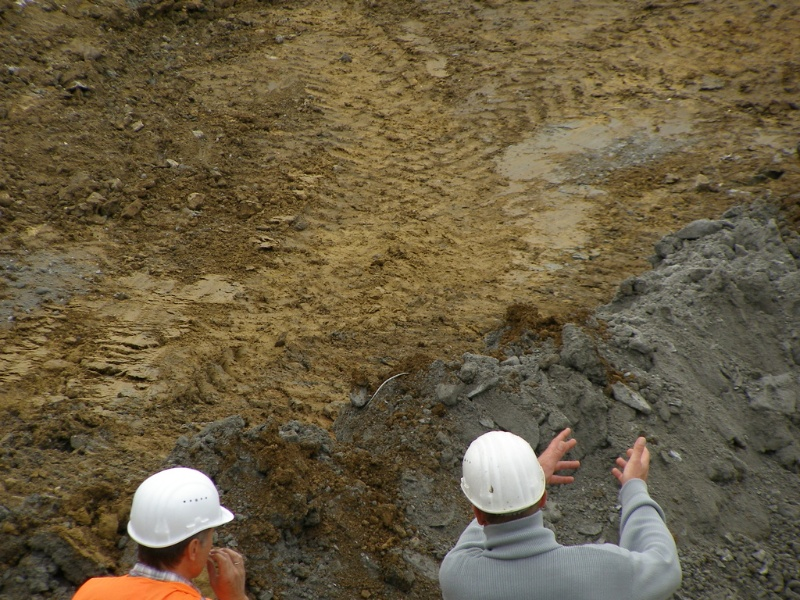helmet: (131, 466, 234, 548), (461, 432, 549, 512)
jacket: (73, 576, 215, 600)
